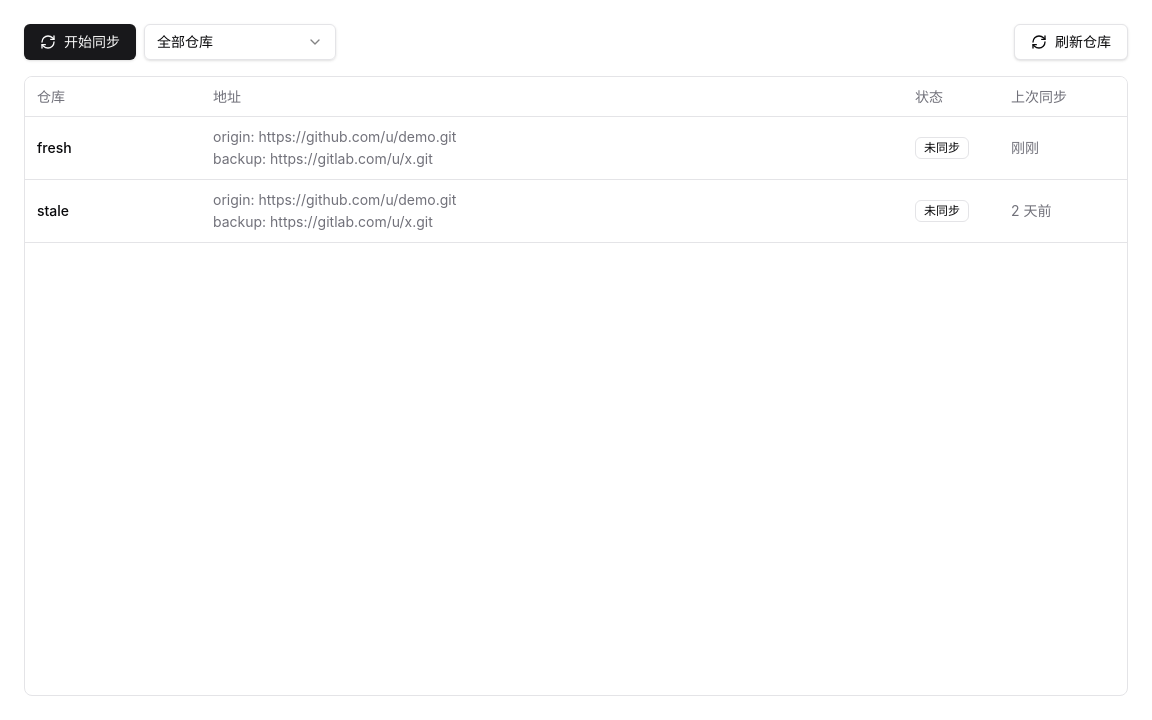
Test case: 范围下拉选择 N 天后，表格仅显示符合范围的仓库且按钮计数一致
Expected: the text "fresh" is shown, left=25, top=117, right=201, bottom=180
Expected: the text "stale" is shown, left=25, top=180, right=201, bottom=243
Note: jsdom 下 Radix trigger 的指针类型初始为 touch：click 即打开下拉（确定性路径）
Click the dropdown at (240, 42), box left=144, top=24, right=336, bottom=60
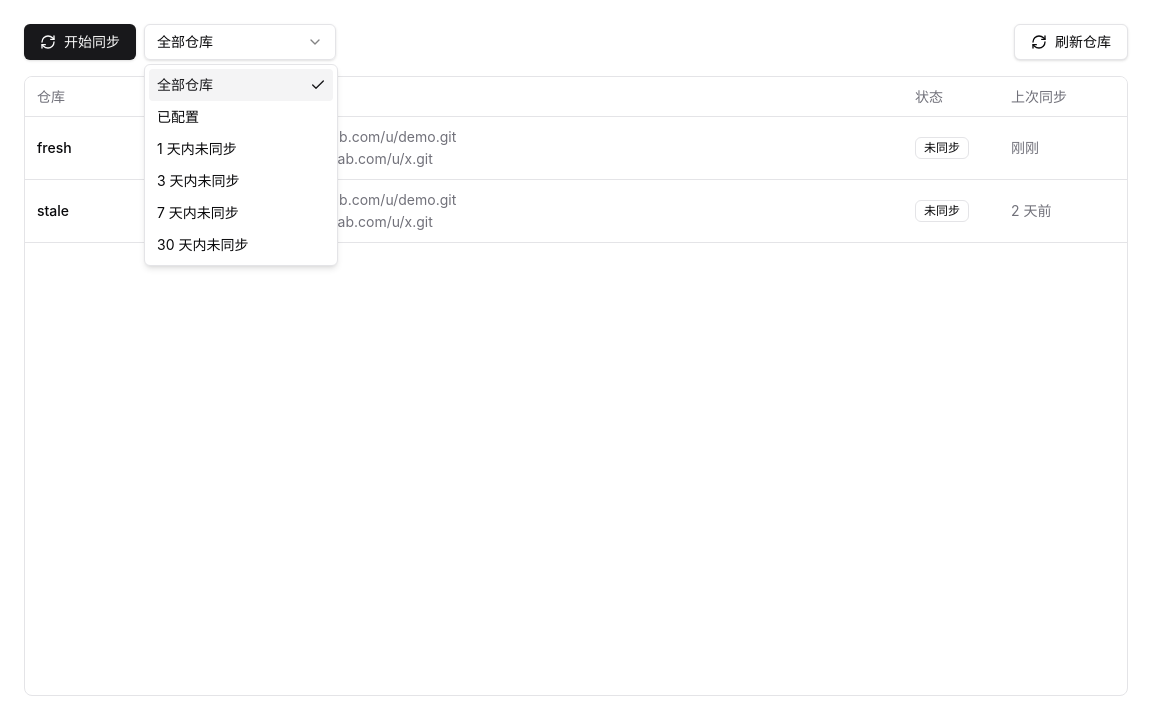
Note: 选项选中：Radix 的 onClick 路径（指针类型非 mouse）直接触发选中
Click the option "1 天内未同步" at (197, 148), box left=157, top=140, right=237, bottom=157
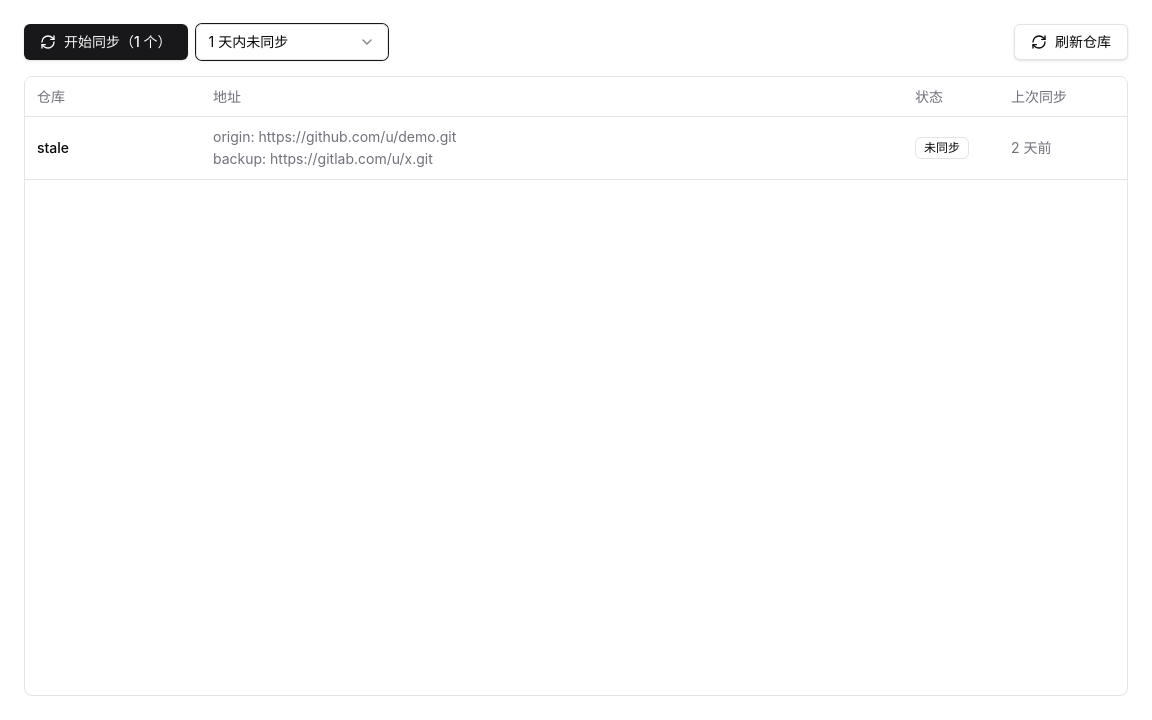
Expected: the text "stale" is shown, left=25, top=117, right=201, bottom=180
Expected: the text "fresh" is gone
Expected: the button "开始同步（1 个）" is shown, left=24, top=24, right=188, bottom=60
